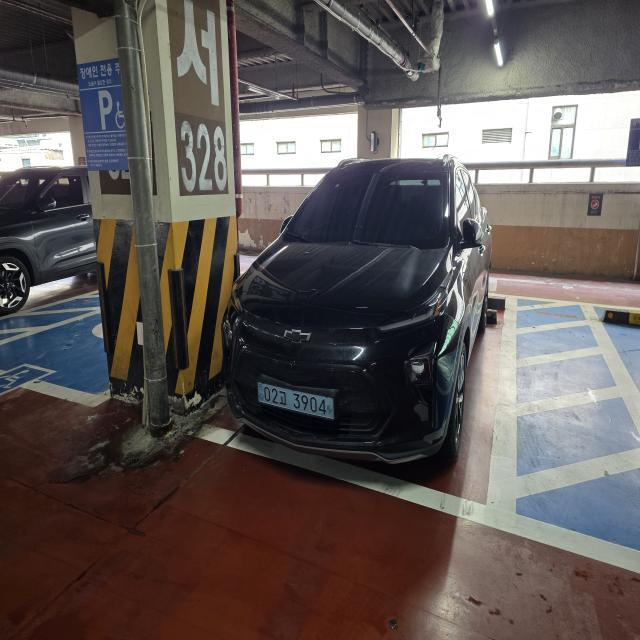car: (252, 374, 341, 427)
carev: (256, 377, 264, 414), (326, 398, 335, 422)
